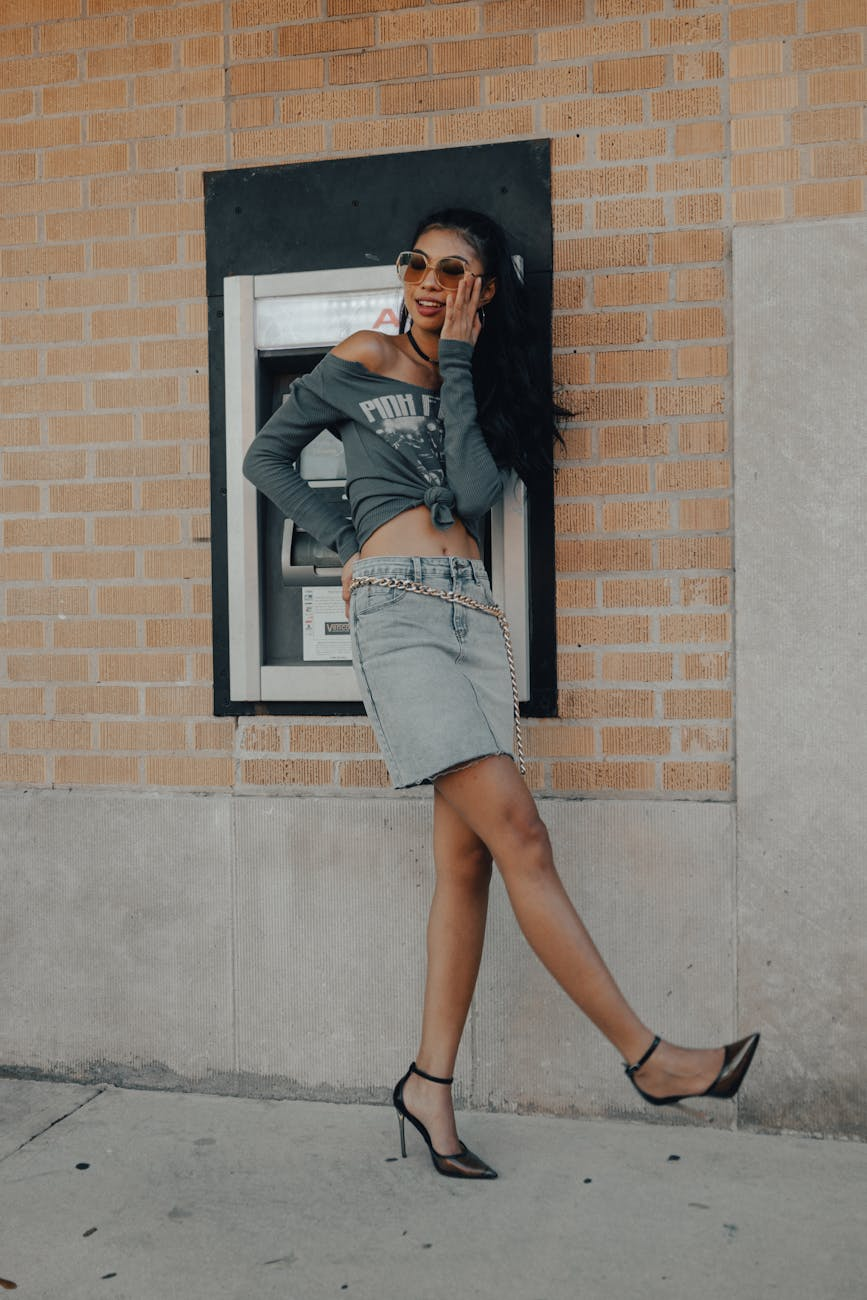crop_top: (292, 338, 529, 547)
opened_foot: (384, 1058, 492, 1181), (619, 1019, 767, 1105)
short_medium_skirt: (337, 552, 530, 786)
